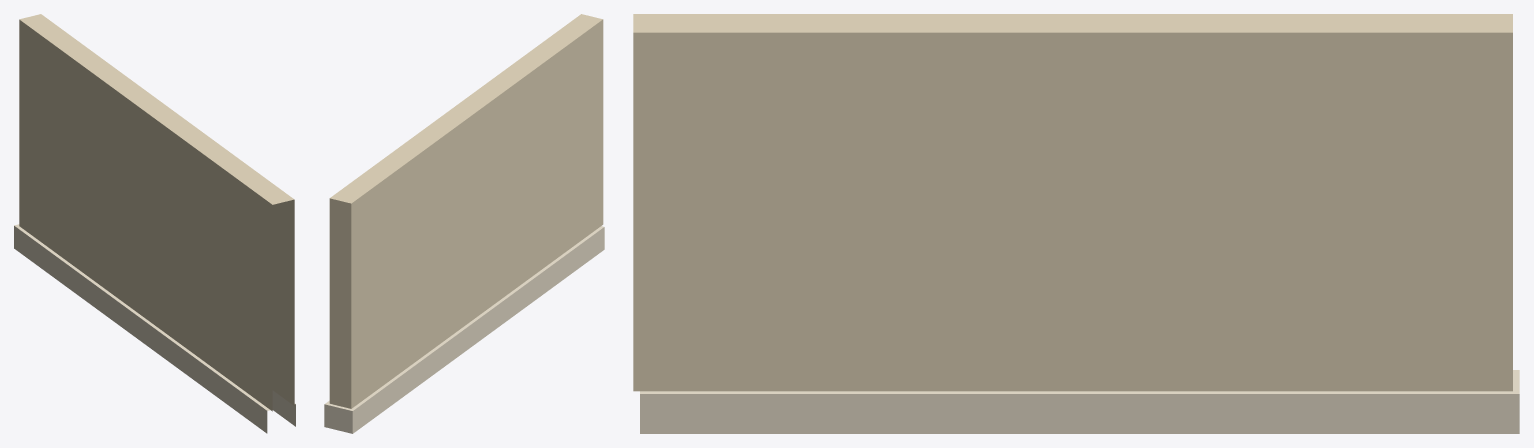
Rendered from Mesh_Wall_Edge_Ext.fbx.
The picture shows the model from 3 angles, left to right: view 1: azimuth 30°, elevation 25°; view 2: azimuth 150°, elevation 25°; view 3: azimuth 270°, elevation 25°; orthographic projection. The views are drawn at different scales.
Visible parts, largest first — view 1: Wall_Outer_edge; view 2: Wall_Outer_edge; view 3: Wall_Outer_edge.
Part boxes in pixels (x1,y1,x2,y2): Wall_Outer_edge: [14, 14, 295, 433]; Wall_Outer_edge: [324, 14, 604, 433]; Wall_Outer_edge: [633, 14, 1519, 433].
Bounding box in the file's own units: 26 × 200 × 403.
